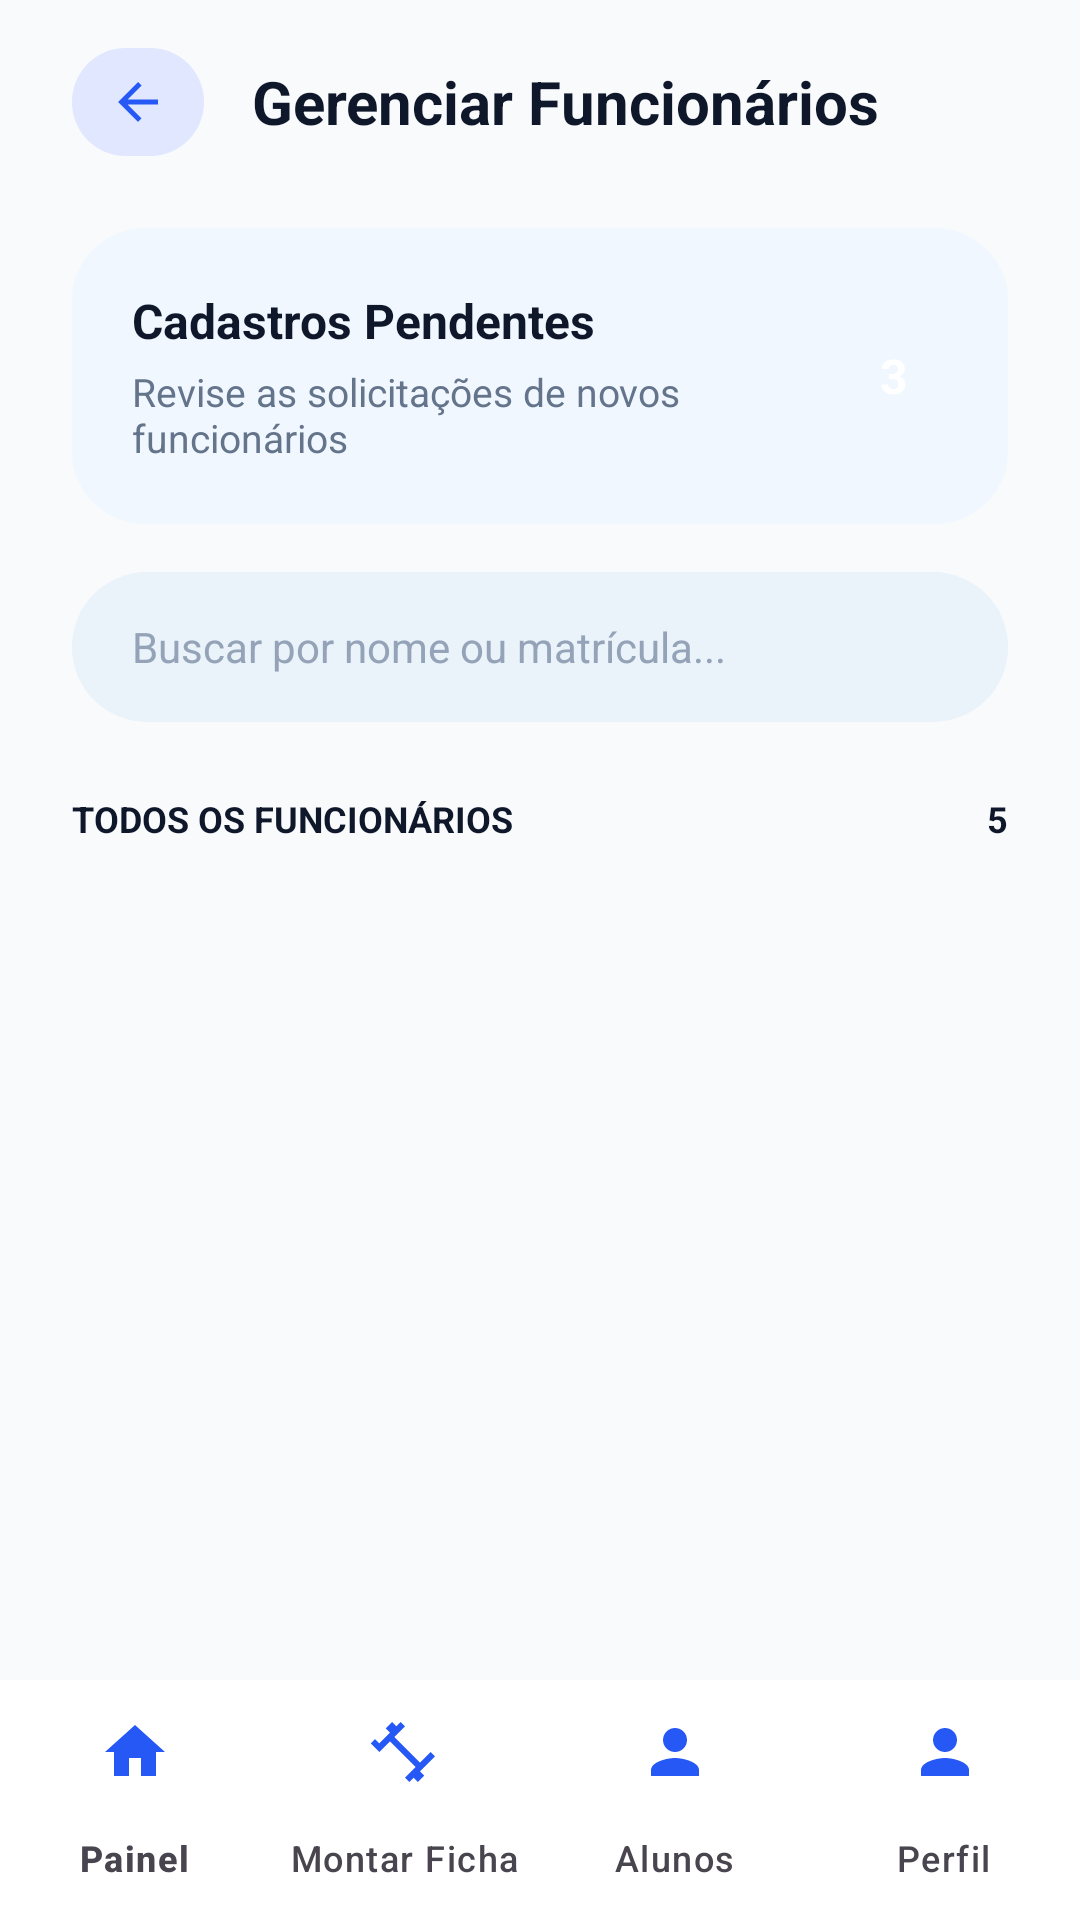

Icons on this 1080×1920 Android screen, each with the point to tap as (x=x, y=y):
Voltar: (x=138, y=102)
